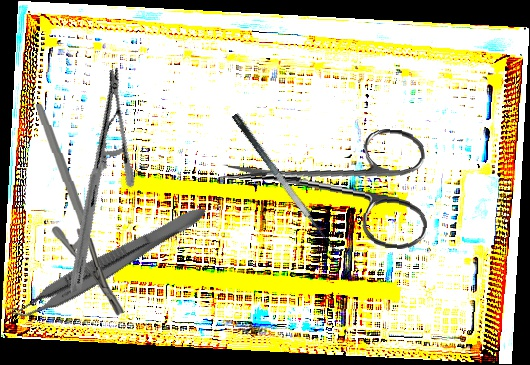Iris Scissors: (215, 115, 435, 251)
Needle Holder: (6, 67, 184, 293), (35, 101, 126, 319)
Spatula Surgical: (230, 104, 349, 260)
Tissue Forceps: (3, 192, 210, 333)
